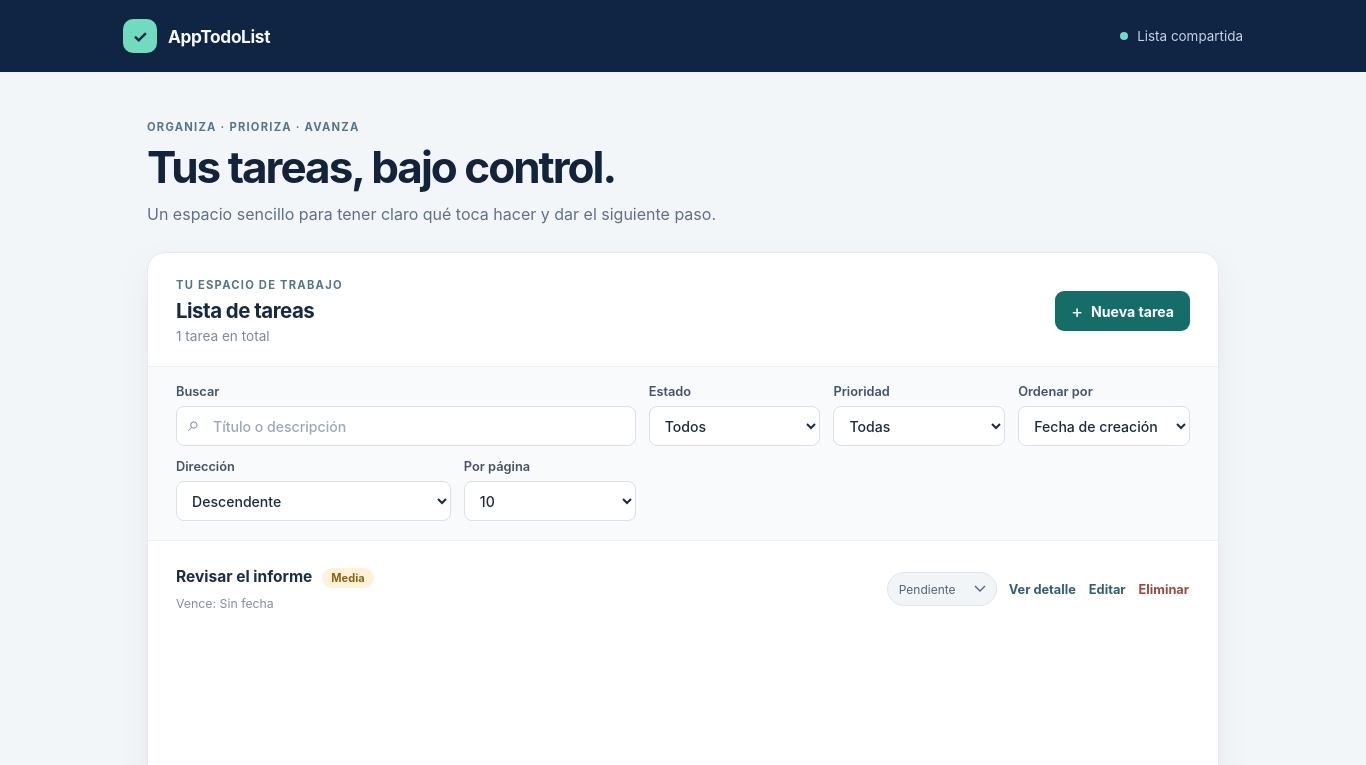
Test: AppTodoList › no elimina sin confirmación y actualiza la lista tras confirmar
Click the button with aria-label "Eliminar Revisar el informe" at (1164, 589), box top-left (1138, 576), bottom-right (1190, 603)
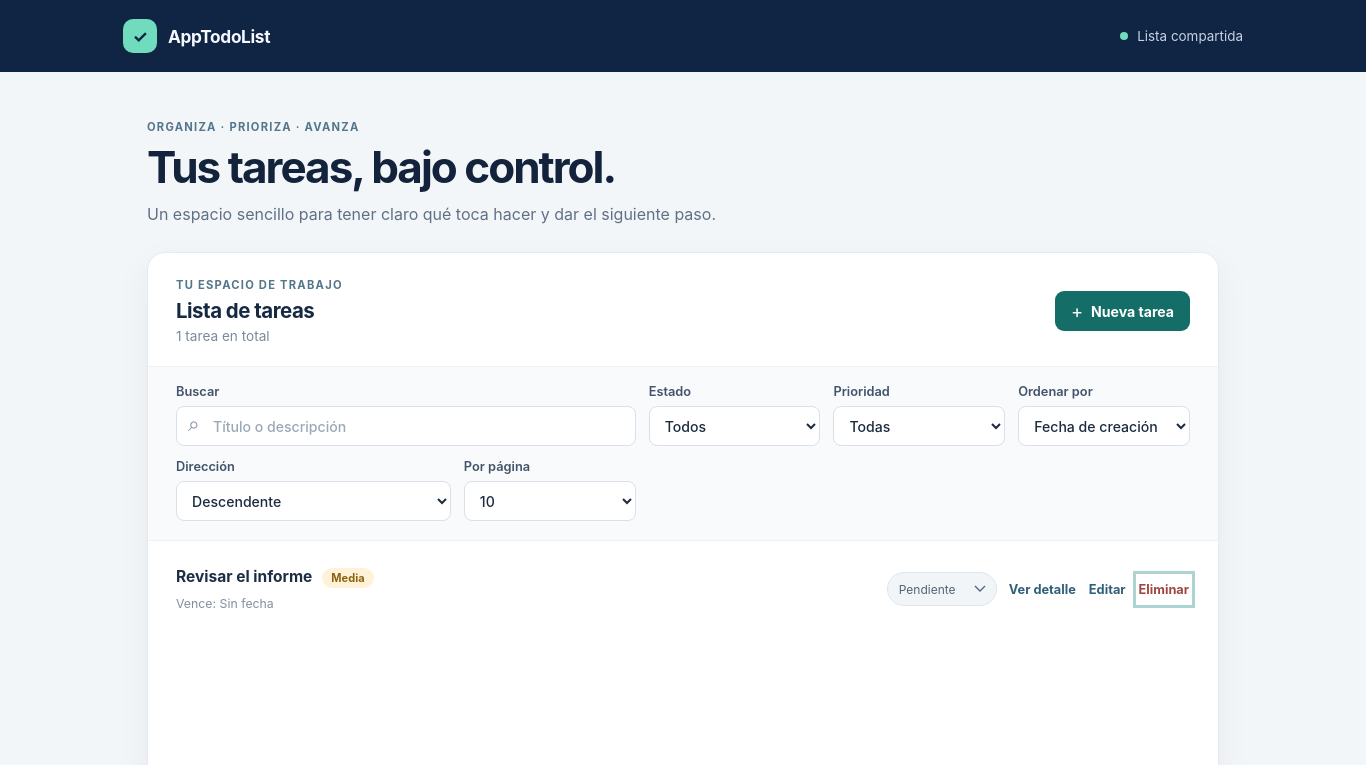
Click the button with aria-label "Eliminar Revisar el informe" at (1164, 589), box top-left (1138, 576), bottom-right (1190, 603)
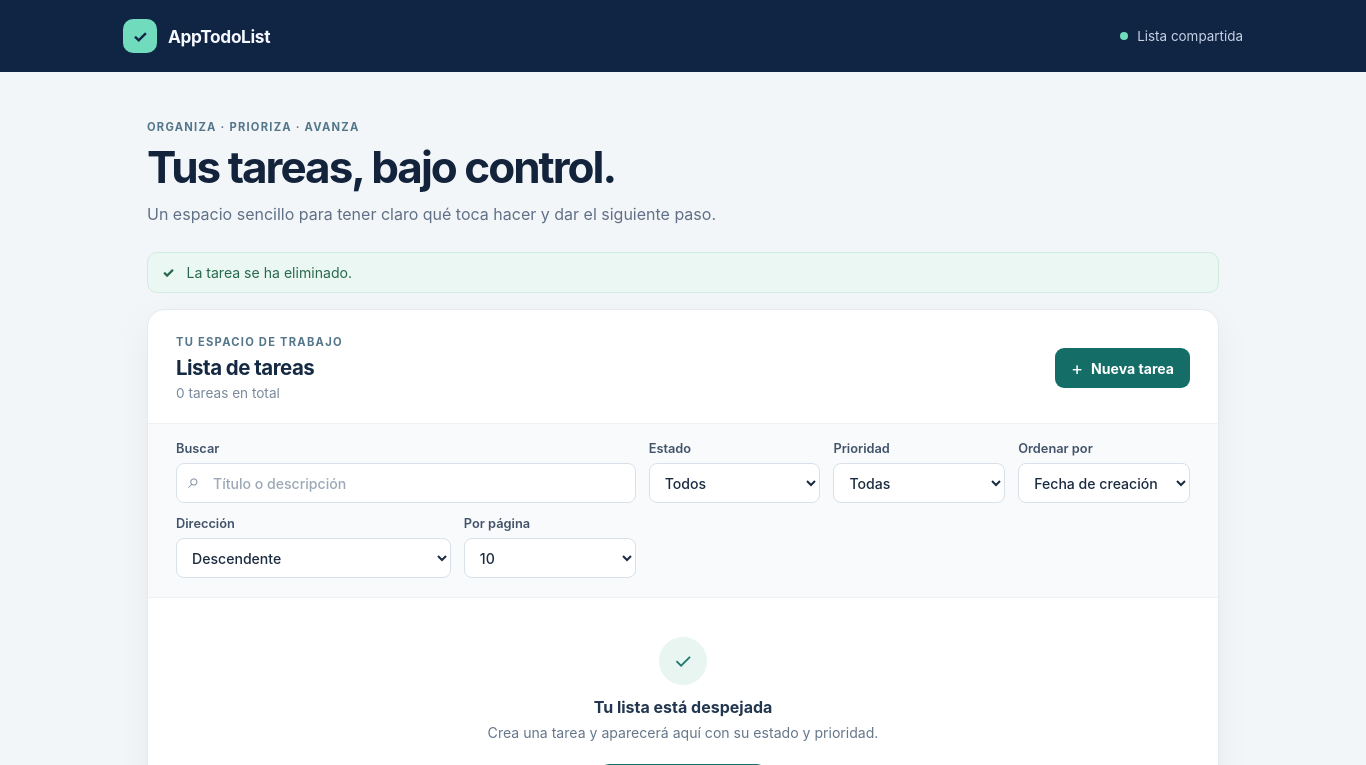
Expected: the text "La tarea se ha eliminado." is shown, top-left (186, 264), bottom-right (352, 281)
Expected: the heading "Tu lista está despejada" is shown, top-left (594, 697), bottom-right (772, 717)
